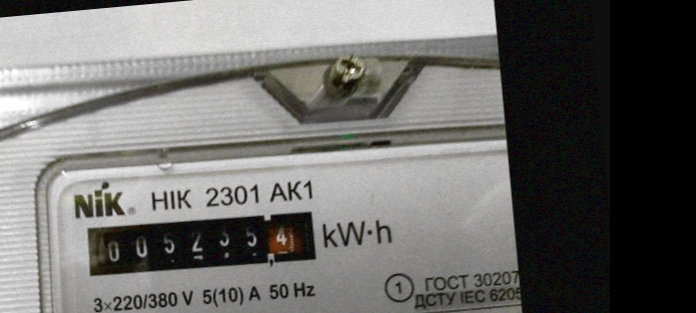0: (103, 237, 122, 265), (132, 233, 148, 259)
2: (187, 227, 203, 253)
3: (215, 222, 231, 249)
4: (272, 221, 289, 248)
5: (241, 221, 259, 249), (159, 229, 176, 257)
screen: (75, 198, 328, 289)
